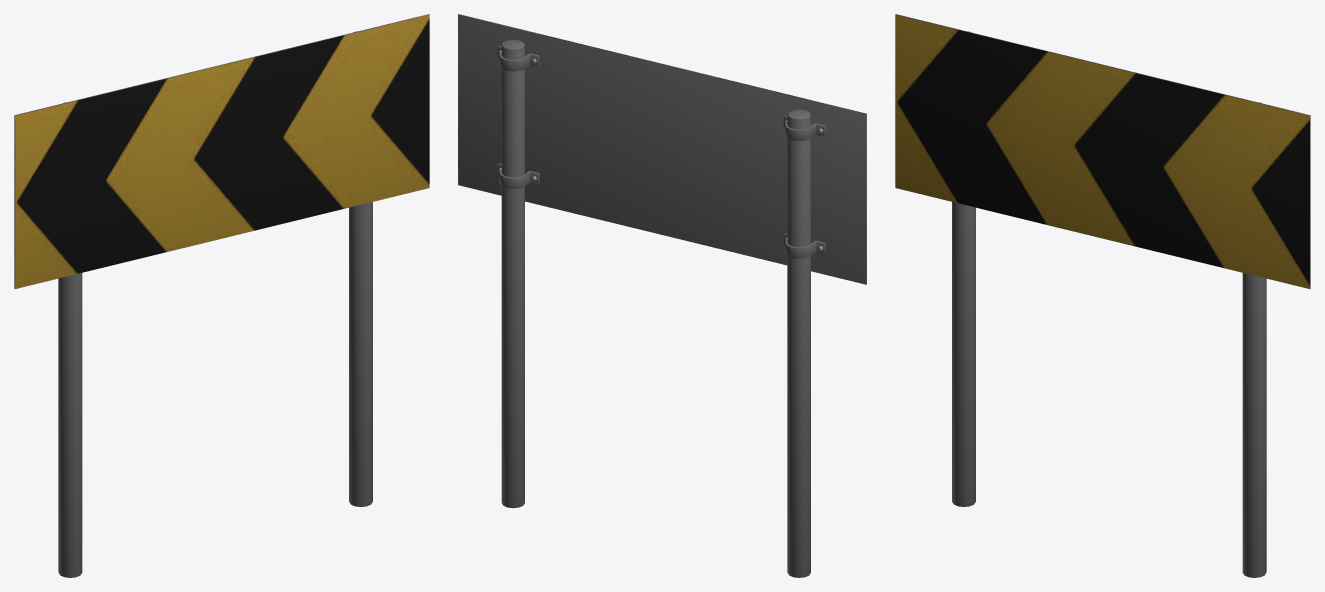
The model's file is SIGN_imported.fbx.
3 renders of one model, left to right at view 1: azimuth 30°, elevation 25°; view 2: azimuth 150°, elevation 25°; view 3: azimuth 330°, elevation 25°, orthographic.
Parts seen in each view (by area): view 1: SIGN; view 2: SIGN; view 3: SIGN.
Part boxes in pixels (left/top/right/bottom): SIGN: left=14, top=14, right=429, bottom=577; SIGN: left=458, top=14, right=866, bottom=577; SIGN: left=895, top=14, right=1310, bottom=577.
Bounding box in the file's own units: 200 × 220 × 11.54.
1 material, 1 textured.
